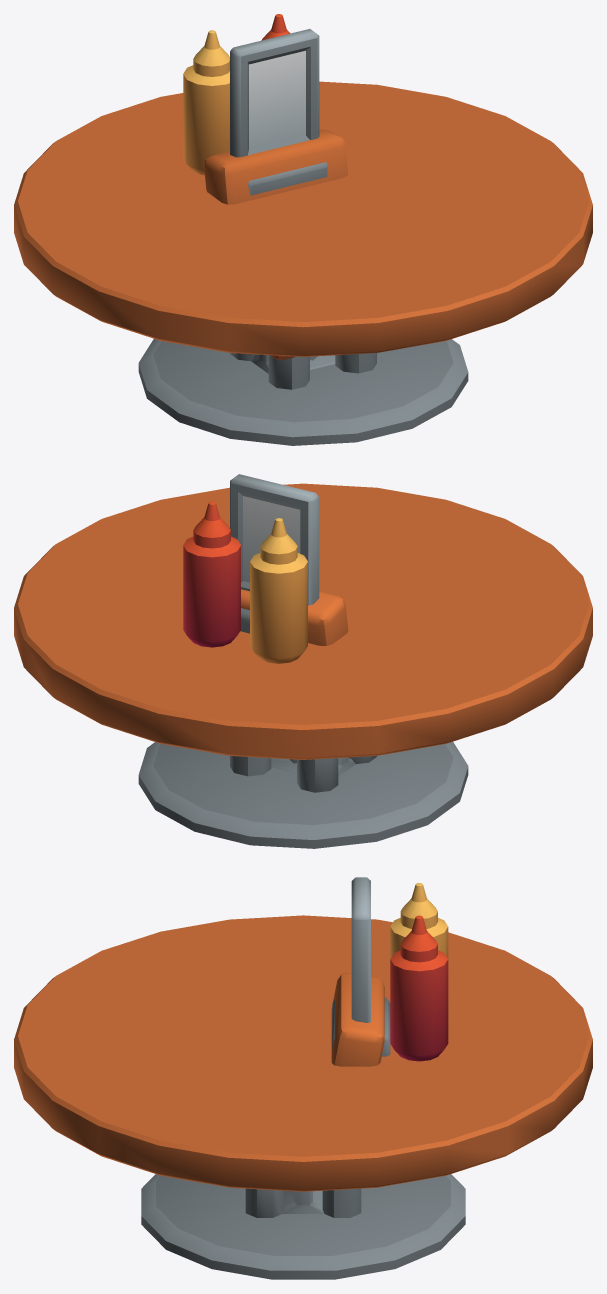
The model's file is cafe.glb.
The picture shows the model from 3 angles, top to bottom: view 1: azimuth 30°, elevation 25°; view 2: azimuth 150°, elevation 25°; view 3: azimuth 270°, elevation 25°; orthographic projection.
Visible parts, largest first — view 1: table_round_A, table_round_A_small_decorated, chair_A; view 2: table_round_A, table_round_A_small_decorated, chair_A, menu; view 3: table_round_A, table_round_A_small_decorated, chair_A, menu.
Boxes of the visible parts, x1=… form: table_round_A: x1=14, y1=81, x2=592, y2=445; table_round_A_small_decorated: x1=166, y1=14, x2=440, y2=360; chair_A: x1=204, y1=129, x2=376, y2=389; table_round_A: x1=14, y1=483, x2=592, y2=848; table_round_A_small_decorated: x1=166, y1=474, x2=440, y2=763; chair_A: x1=230, y1=589, x2=376, y2=792; menu: x1=271, y1=757, x2=355, y2=776; table_round_A: x1=14, y1=915, x2=592, y2=1279; table_round_A_small_decorated: x1=166, y1=877, x2=448, y2=1093; chair_A: x1=245, y1=973, x2=384, y2=1217; menu: x1=282, y1=1190, x2=324, y2=1213.
Bounding box in the file's own units: 3 × 1.8 × 3.
1 material, 1 textured.
